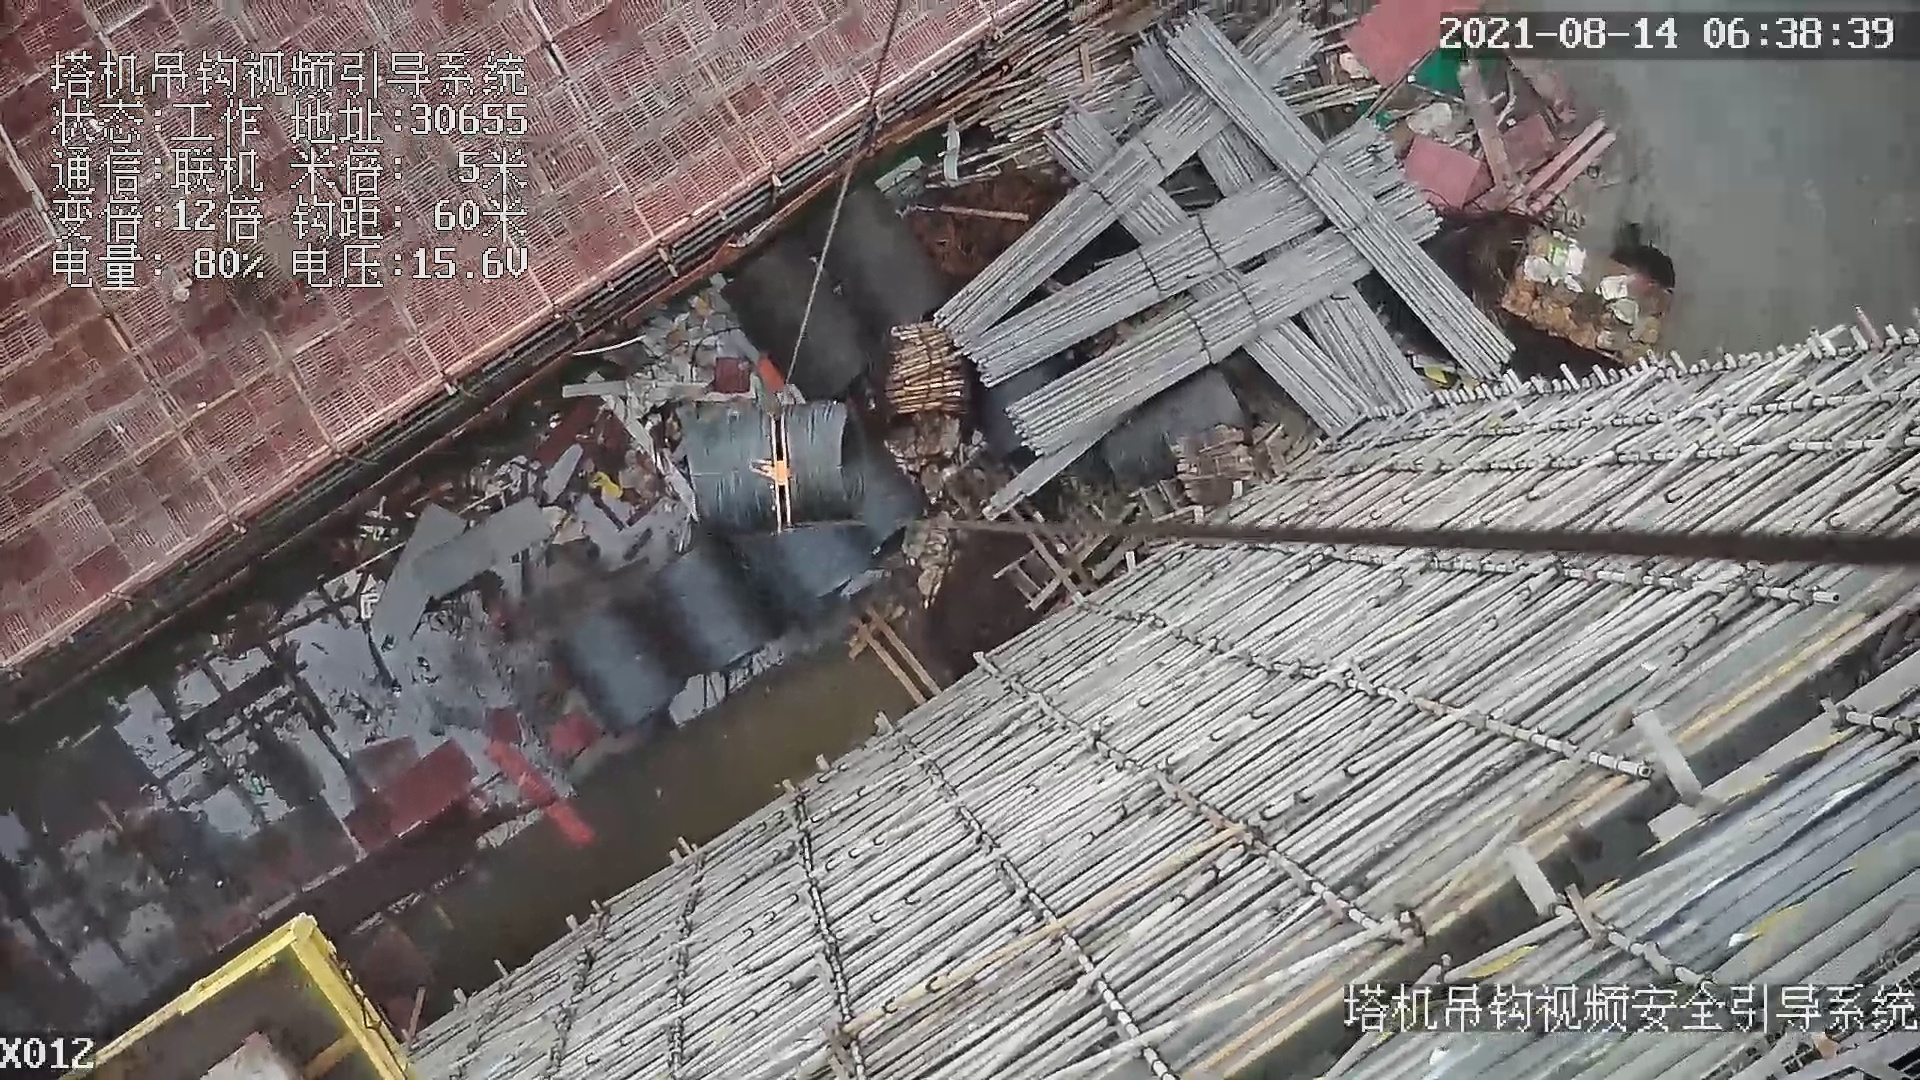hook: (749, 415, 806, 537)
